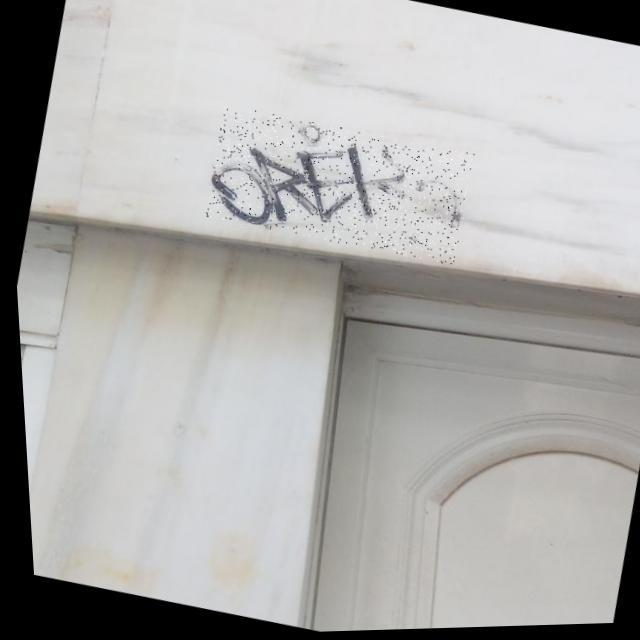-: (197, 100, 477, 274)
